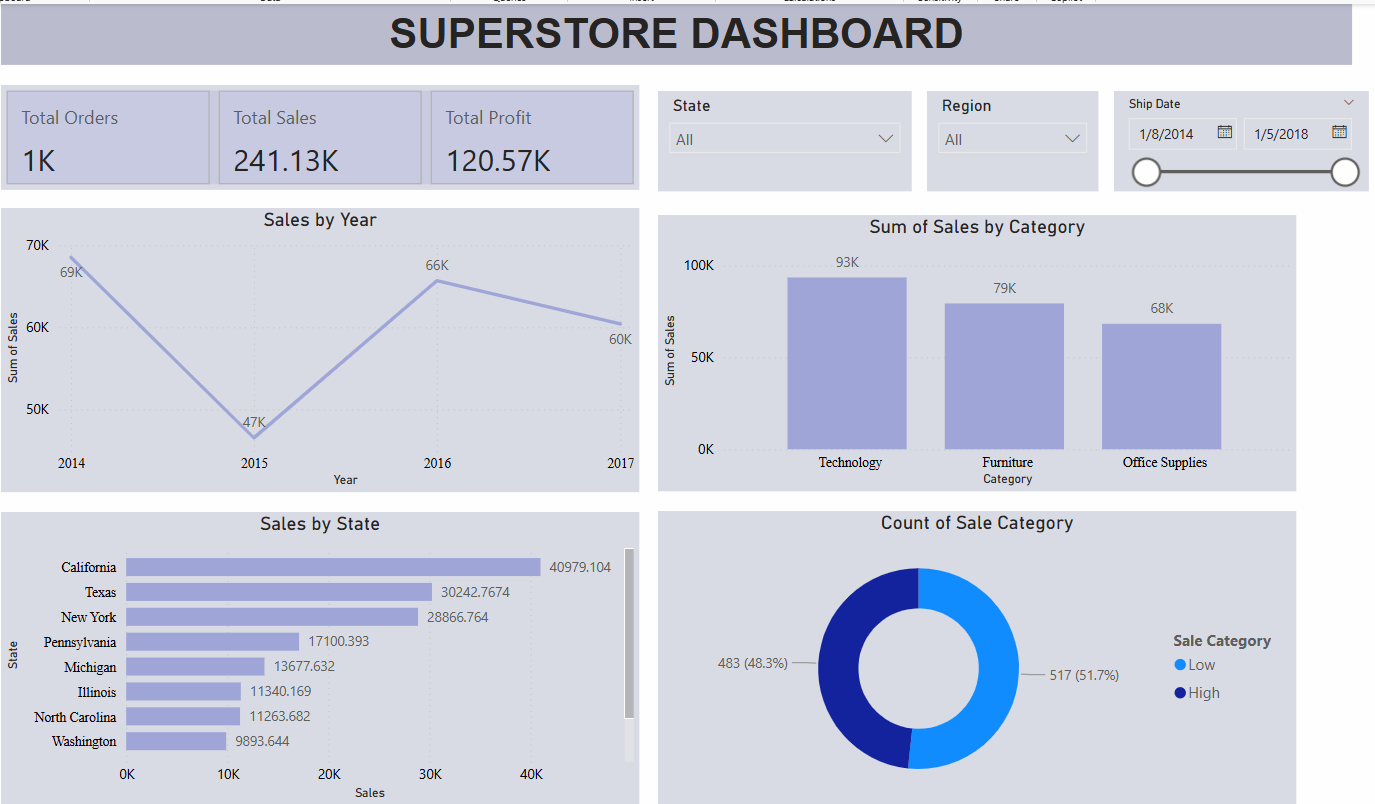

The dashboard page shown, as its layout file describes it:
{"tool":"powerbi","page":{"name":"Page 1","canvas":[1280,720],"ordinal":0},"visuals":[{"type":"textbox","box":[9.4,0,1269.9,73.7],"z":0},{"type":"clusteredBarChart","title":"Sales by State","fields":{"Category":["Sheet1.State"],"Y":["Sum(Sheet1.Sales)"]},"box":[11.6,228.3,353.5,473.9],"z":1000},{"type":"donutChart","title":"Count by Sale category","fields":{"Category":["Sheet1.Sale category"],"Y":["CountNonNull(Sheet1.Sales)"]},"box":[900.5,228.3,365,227.3],"z":2000},{"type":"slicer","fields":{"Values":["Sheet1.State"]},"box":[628.9,76.1,168.5,132.9],"z":3000},{"type":"slicer","fields":{"Values":["Sheet1.Region"]},"box":[810,74.2,181.1,134.8],"z":4000},{"type":"slicer","fields":{"Values":["Sheet1.Ship Date"]},"box":[997.8,76.1,267.8,132.9],"z":5000},{"type":"card","fields":{"Values":["Sheet1.Total Order"]},"box":[11.6,76.1,169.5,132.9],"z":6000},{"type":"card","fields":{"Values":["Sheet1.Total sales"]},"box":[397.8,76.1,210,132.9],"z":7000},{"type":"card","fields":{"Values":["Sheet1 (3).Total Profit"]},"box":[181.1,76.1,216.7,132.9],"z":8000},{"type":"clusteredColumnChart","fields":{"Category":["Sheet1.Category"],"Y":["Sum(Sheet1.Sales)"]},"box":[381.4,236.9,491.2,179.1],"z":9000},{"type":"lineChart","fields":{"Category":["Sheet1.Order Date.Variation.Date Hierarchy.Year","Sheet1.Order Date.Variation.Date Hierarchy.Quarter","Sheet1.Order Date.Variation.Date Hierarchy.Month","Sheet1.Order Date.Variation.Date Hierarchy.Day"],"Y":["Sum(Sheet1.Sales)"]},"box":[749.3,474.8,516.2,227.3],"z":10000},{"type":"clusteredColumnChart","fields":{"Category":["Sheet1.Ship Mode"],"Y":["Sheet1.Total Order"]},"box":[381.4,426.7,341.9,275.5],"z":10002}]}

Visuals, with their boxes on the page's 1280x720 design canvas (x1, y1, x2, y2). These are canvas units, not pixel positions in the 1375x804 screenshot, which may show the page scaled, cropped or inside an application window:
textbox: [left=9, top=0, right=1279, bottom=74]
"Sales by State" clusteredBarChart: [left=12, top=228, right=365, bottom=702]
"Count by Sale category" donutChart: [left=900, top=228, right=1266, bottom=456]
slicer - Sheet1.State: [left=629, top=76, right=797, bottom=209]
slicer - Sheet1.Region: [left=810, top=74, right=991, bottom=209]
slicer - Sheet1.Ship Date: [left=998, top=76, right=1266, bottom=209]
card - Sheet1.Total Order: [left=12, top=76, right=181, bottom=209]
card - Sheet1.Total sales: [left=398, top=76, right=608, bottom=209]
card - Sheet1 (3).Total Profit: [left=181, top=76, right=398, bottom=209]
clusteredColumnChart - Sheet1.Category x Sum(Sheet1.Sales): [left=381, top=237, right=873, bottom=416]
lineChart - Sheet1.Order Date.Variation.Date Hierarchy.Year x Sheet1.Order Date.Variation.Date Hierarchy.Quarter: [left=749, top=475, right=1266, bottom=702]
clusteredColumnChart - Sheet1.Ship Mode x Sheet1.Total Order: [left=381, top=427, right=723, bottom=702]
